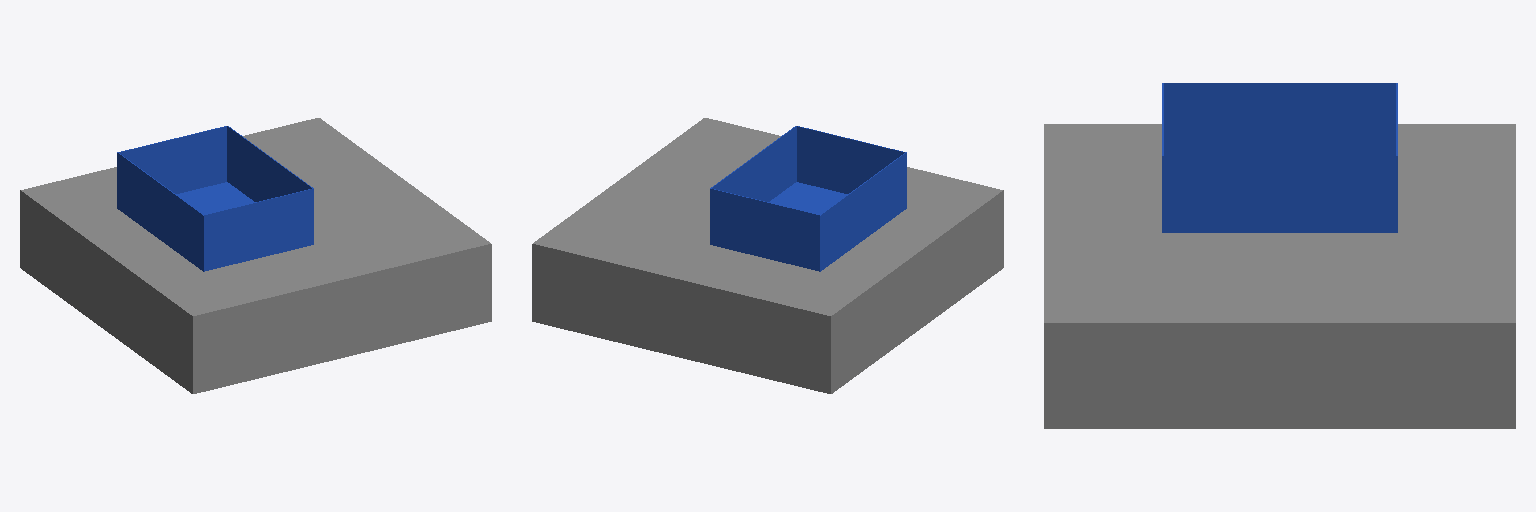
URDF robot description (block_with_basin):
<?xml version="1.0" encoding="utf-8"?>
<robot name="block_with_basin">
  <!-- Assembly: solid block (100×100×25 cm) on ground,
       rectangular basin (37×50×18 cm, 3mm wall) placed on top -->

  <!-- Materials -->
  <material name="block_gray">
    <color rgba="0.6 0.6 0.6 0.8"/>
  </material>
  <material name="basin_blue">
    <color rgba="0.2 0.4 0.8 0.7"/>
  </material>

  <!-- Virtual root link -->
  <link name="base_link"/>

  <!-- ===== Solid Block (100×100×25 cm, origin at center) ===== -->
  <link name="block">
    <visual>
      <geometry>
        <box size="1.0 1.0 0.25"/>
      </geometry>
      <material name="block_gray"/>
    </visual>
    <collision>
      <geometry>
        <box size="1.0 1.0 0.25"/>
      </geometry>
    </collision>
  </link>

  <!-- ===== Rectangular Basin (37×50×18 cm, 3mm wall, origin at bottom center) ===== -->
  <!-- Bottom plate: 37×50×0.3 cm -->
  <link name="basin_bottom">
    <visual>
      <geometry>
        <box size="0.37 0.50 0.003"/>
      </geometry>
      <material name="basin_blue"/>
    </visual>
    <collision>
      <geometry>
        <box size="0.37 0.50 0.003"/>
      </geometry>
    </collision>
  </link>

  <!-- Front wall (Y+): 37×0.3×18 cm -->
  <link name="basin_front_wall">
    <visual>
      <geometry>
        <box size="0.37 0.003 0.18"/>
      </geometry>
      <material name="basin_blue"/>
    </visual>
    <collision>
      <geometry>
        <box size="0.37 0.003 0.18"/>
      </geometry>
    </collision>
  </link>

  <!-- Back wall (Y-): 37×0.3×18 cm -->
  <link name="basin_back_wall">
    <visual>
      <geometry>
        <box size="0.37 0.003 0.18"/>
      </geometry>
      <material name="basin_blue"/>
    </visual>
    <collision>
      <geometry>
        <box size="0.37 0.003 0.18"/>
      </geometry>
    </collision>
  </link>

  <!-- Left wall (X-): 0.3×49.4×18 cm -->
  <link name="basin_left_wall">
    <visual>
      <geometry>
        <box size="0.003 0.494 0.18"/>
      </geometry>
      <material name="basin_blue"/>
    </visual>
    <collision>
      <geometry>
        <box size="0.003 0.494 0.18"/>
      </geometry>
    </collision>
  </link>

  <!-- Right wall (X+): 0.3×49.4×18 cm -->
  <link name="basin_right_wall">
    <visual>
      <geometry>
        <box size="0.003 0.494 0.18"/>
      </geometry>
      <material name="basin_blue"/>
    </visual>
    <collision>
      <geometry>
        <box size="0.003 0.494 0.18"/>
      </geometry>
    </collision>
  </link>

  <!-- ===== Joints ===== -->

  <!-- Block placed on ground: bottom at Z=0, center at Z=0.125 -->
  <joint name="block_joint" type="fixed">
    <parent link="base_link"/>
    <child link="block"/>
    <origin xyz="0 0 0.125" rpy="0 0 0"/>
  </joint>

  <!-- Basin placed on top of block:
       Basin 50cm edge centered in Y (25cm from each block edge).
       Basin X edge 45cm from +X block edge.
       Basin bottom on block top surface (Z=0.25m). -->
  <joint name="basin_base_joint" type="fixed">
    <parent link="base_link"/>
    <child link="basin_bottom"/>
    <origin xyz="-0.135 0 0.25" rpy="0 0 0"/>
  </joint>

  <!-- Basin wall joints (relative to basin bottom) -->

  <!-- Front wall (Y+) -->
  <joint name="basin_front_joint" type="fixed">
    <parent link="basin_bottom"/>
    <child link="basin_front_wall"/>
    <origin xyz="0 0.2485 0.09" rpy="0 0 0"/>
  </joint>

  <!-- Back wall (Y-) -->
  <joint name="basin_back_joint" type="fixed">
    <parent link="basin_bottom"/>
    <child link="basin_back_wall"/>
    <origin xyz="0 -0.2485 0.09" rpy="0 0 0"/>
  </joint>

  <!-- Left wall (X-) -->
  <joint name="basin_left_joint" type="fixed">
    <parent link="basin_bottom"/>
    <child link="basin_left_wall"/>
    <origin xyz="-0.1835 0 0.09" rpy="0 0 0"/>
  </joint>

  <!-- Right wall (X+) -->
  <joint name="basin_right_joint" type="fixed">
    <parent link="basin_bottom"/>
    <child link="basin_right_wall"/>
    <origin xyz="0.1835 0 0.09" rpy="0 0 0"/>
  </joint>

</robot>

--- Render facts (derived) ---
The picture shows the robot from 3 angles, left to right: view 1: azimuth 30°, elevation 25°; view 2: azimuth 150°, elevation 25°; view 3: azimuth 270°, elevation 25°; orthographic projection.
Model block_with_basin with 7 links and 6 joints (6 fixed), rooted at base_link, posed every joint at zero.
Links seen in each view (by area): view 1: block, basin_back_wall, basin_left_wall, basin_front_wall, basin_right_wall, basin_bottom; view 2: block, basin_front_wall, basin_left_wall, basin_back_wall, basin_right_wall, basin_bottom; view 3: block, basin_right_wall, basin_left_wall.
Boxes of the visible links, box(x1,y1,x2,y2) form: block: box(20, 118, 491, 393); basin_back_wall: box(203, 188, 313, 271); basin_left_wall: box(118, 153, 202, 270); basin_front_wall: box(117, 126, 226, 207); basin_right_wall: box(227, 126, 312, 201); basin_bottom: box(117, 182, 297, 271); block: box(532, 118, 1003, 393); basin_front_wall: box(710, 188, 820, 271); basin_left_wall: box(821, 153, 905, 270); basin_back_wall: box(797, 126, 906, 207); basin_right_wall: box(711, 126, 796, 201); basin_bottom: box(713, 182, 906, 269); block: box(1044, 124, 1515, 428); basin_right_wall: box(1164, 156, 1395, 232); basin_left_wall: box(1164, 83, 1395, 155).
Bounding box of the posed robot: 1 × 1 × 0.43 m (x, y, z).
Geometry: primitives only (box / cylinder / sphere), no mesh files.
